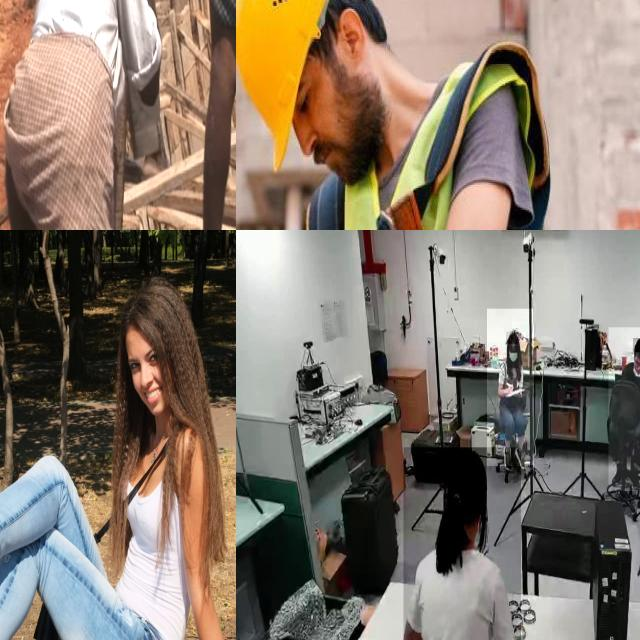Harness: (376, 40, 504, 230)
face_mask: (508, 346, 518, 368)
hand_noglove: (504, 380, 514, 394)
head_nohelmet: (445, 447, 487, 493), (506, 332, 519, 345), (632, 338, 640, 353)
person: (403, 447, 521, 640), (487, 309, 535, 466), (608, 327, 640, 491)
shoes: (499, 442, 515, 472), (628, 460, 640, 490)
